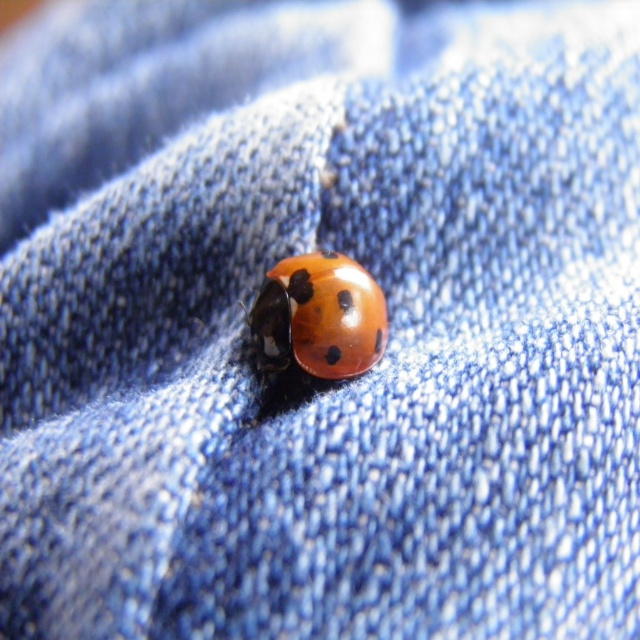Ladybug: (236, 243, 390, 388)
